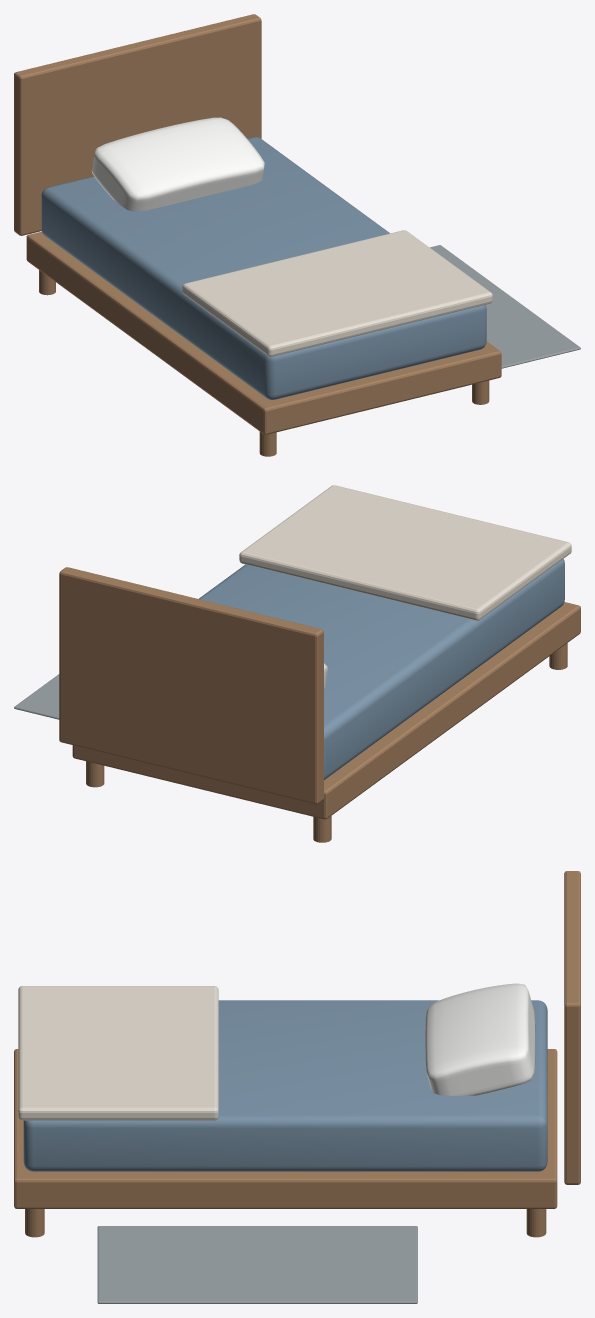
File: furniture_bed.fbx
3 renders of one model, top to bottom at view 1: azimuth 30°, elevation 25°; view 2: azimuth 150°, elevation 25°; view 3: azimuth 270°, elevation 25°, orthographic. The views are drawn at different scales.
Visible parts, largest first — view 1: Kasur_Springbed, Dipan_Headboard, Selimut, Dipan_Platform, Bantal_1, Keset_Samping_Kasur; view 2: Dipan_Headboard, Kasur_Springbed, Selimut, Dipan_Platform, Keset_Samping_Kasur, Dipan_Kaki_3; view 3: Kasur_Springbed, Selimut, Keset_Samping_Kasur, Dipan_Platform, Bantal_1, Dipan_Headboard, Dipan_Kaki_4, Dipan_Kaki_2.
Part boxes in pixels (x1,y1,x2,y2): Kasur_Springbed: [41, 137, 486, 399]; Dipan_Headboard: [14, 14, 261, 235]; Selimut: [182, 230, 492, 356]; Dipan_Platform: [26, 231, 501, 434]; Bantal_1: [91, 117, 264, 211]; Keset_Samping_Kasur: [430, 245, 580, 368]; Dipan_Headboard: [59, 567, 323, 804]; Kasur_Springbed: [199, 559, 564, 779]; Selimut: [239, 485, 571, 620]; Dipan_Platform: [72, 602, 580, 819]; Keset_Samping_Kasur: [14, 674, 59, 719]; Dipan_Kaki_3: [313, 816, 331, 842]; Kasur_Springbed: [23, 1000, 547, 1171]; Selimut: [18, 986, 218, 1120]; Keset_Samping_Kasur: [97, 1226, 417, 1303]; Dipan_Platform: [14, 1049, 557, 1208]; Bantal_1: [425, 983, 535, 1095]; Dipan_Headboard: [564, 871, 580, 1184]; Dipan_Kaki_4: [526, 1209, 546, 1237]; Dipan_Kaki_2: [25, 1209, 44, 1237].
Size of the model in its own units: 1.67 by 0.94 by 2.03.
